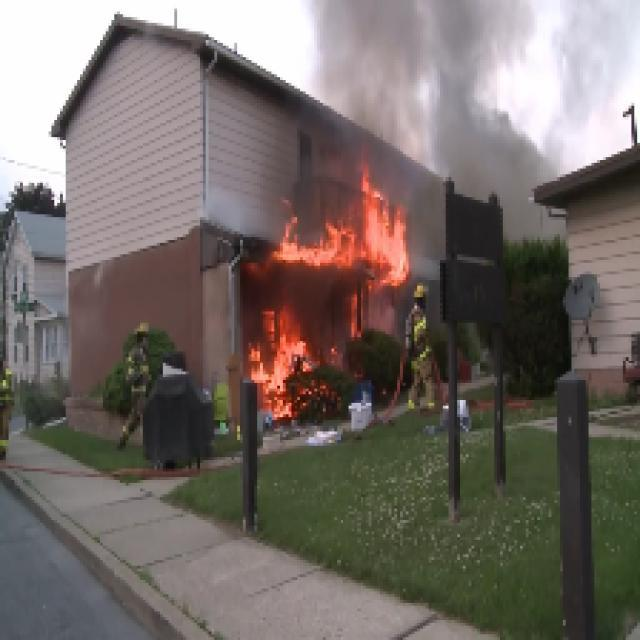Fire: (231, 137, 423, 440)
Smoke: (297, 2, 640, 274)
